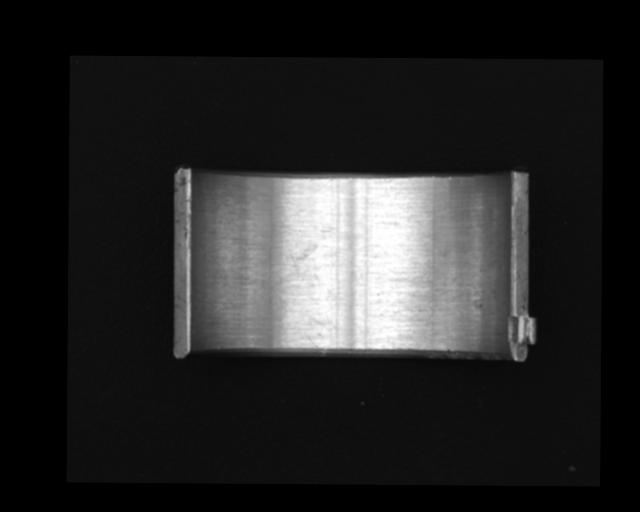blot: (281, 241, 321, 286)
